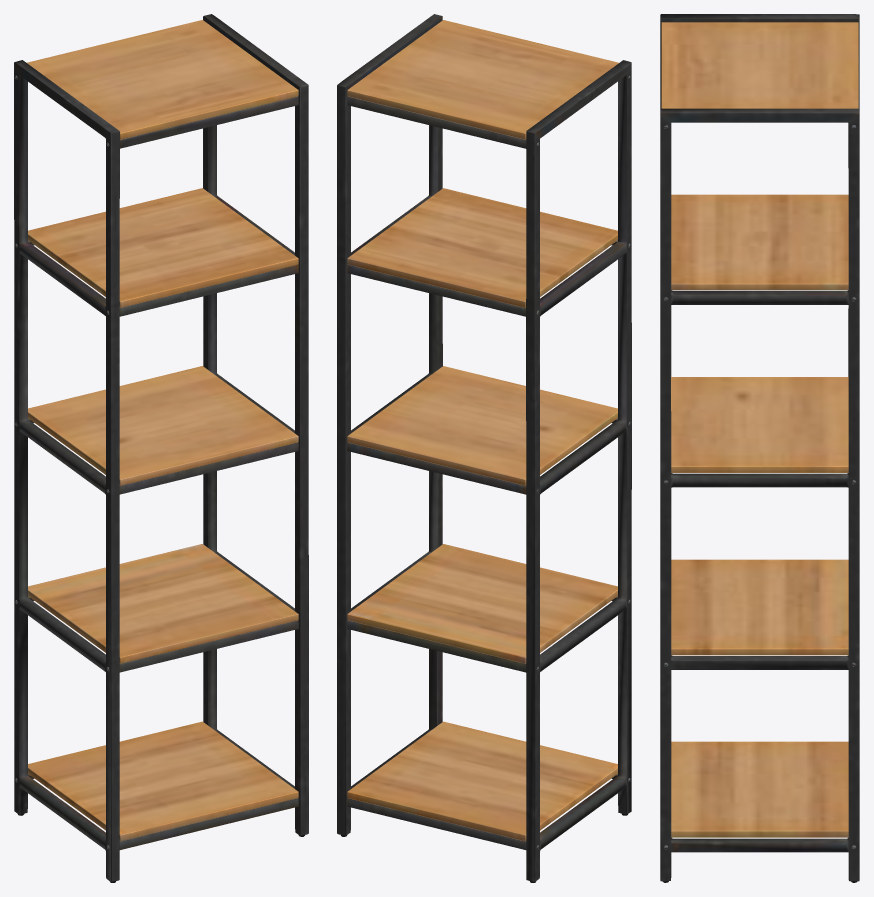
File: steel_frame_shelves_02.glb
3 renders of one model, left to right at view 1: azimuth 30°, elevation 25°; view 2: azimuth 150°, elevation 25°; view 3: azimuth 270°, elevation 25°, orthographic. The views are drawn at different scales.
Visible parts, largest first — view 1: steel_frame_shelves_02; view 2: steel_frame_shelves_02; view 3: steel_frame_shelves_02.
Boxes of the visible parts, x1,y1,x2,y2 form: steel_frame_shelves_02: (14,14,308,882); steel_frame_shelves_02: (337,14,631,882); steel_frame_shelves_02: (660,14,859,882).
Size of the model in its own units: 0.5933 by 2.14 by 0.5024.
Materials: 1 (1 with a texture image).
